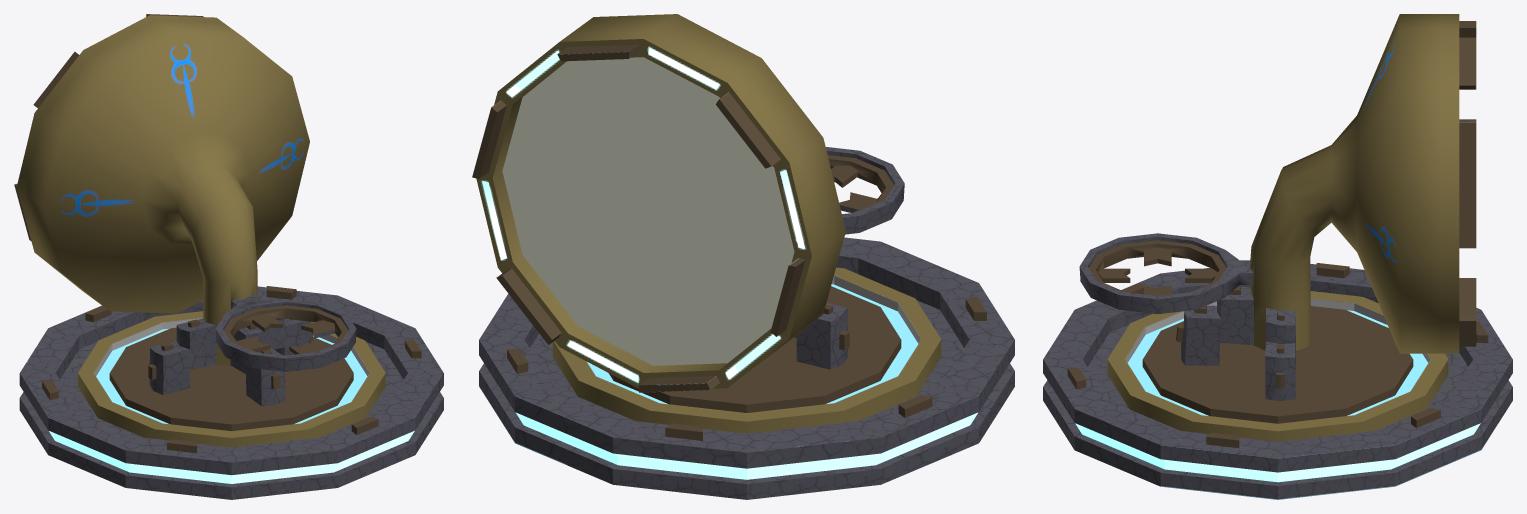
Rendered from light_panel_mirror.glb.
3 views of the same model, side by side, from view 1: azimuth 30°, elevation 25°; view 2: azimuth 150°, elevation 25°; view 3: azimuth 270°, elevation 25° (orthographic). The views are drawn at different scales.
Parts seen in each view (by area): view 1: Mirror001_01 - Default_0, Mirror_Base, Mirror_Rotate_02 - Default_0; view 2: Mirror001_01 - Default_0, Mirror_Base, Mirror_Rotate_02 - Default_0; view 3: Mirror001_01 - Default_0, Mirror_Base, Mirror_Rotate_02 - Default_0.
Boxes of the visible parts, x1,y1,x2,y2 form: Mirror001_01 - Default_0: [14, 14, 356, 406]; Mirror_Base: [19, 286, 443, 499]; Mirror_Rotate_02 - Default_0: [78, 311, 385, 447]; Mirror001_01 - Default_0: [472, 14, 904, 392]; Mirror_Base: [479, 237, 1014, 499]; Mirror_Rotate_02 - Default_0: [552, 267, 941, 433]; Mirror001_01 - Default_0: [1079, 14, 1476, 400]; Mirror_Base: [1043, 263, 1512, 499]; Mirror_Rotate_02 - Default_0: [1107, 291, 1448, 441].
Size of the model in its own units: 2.76 by 2.4 by 2.76.
Materials: 3 (3 with a texture image).
